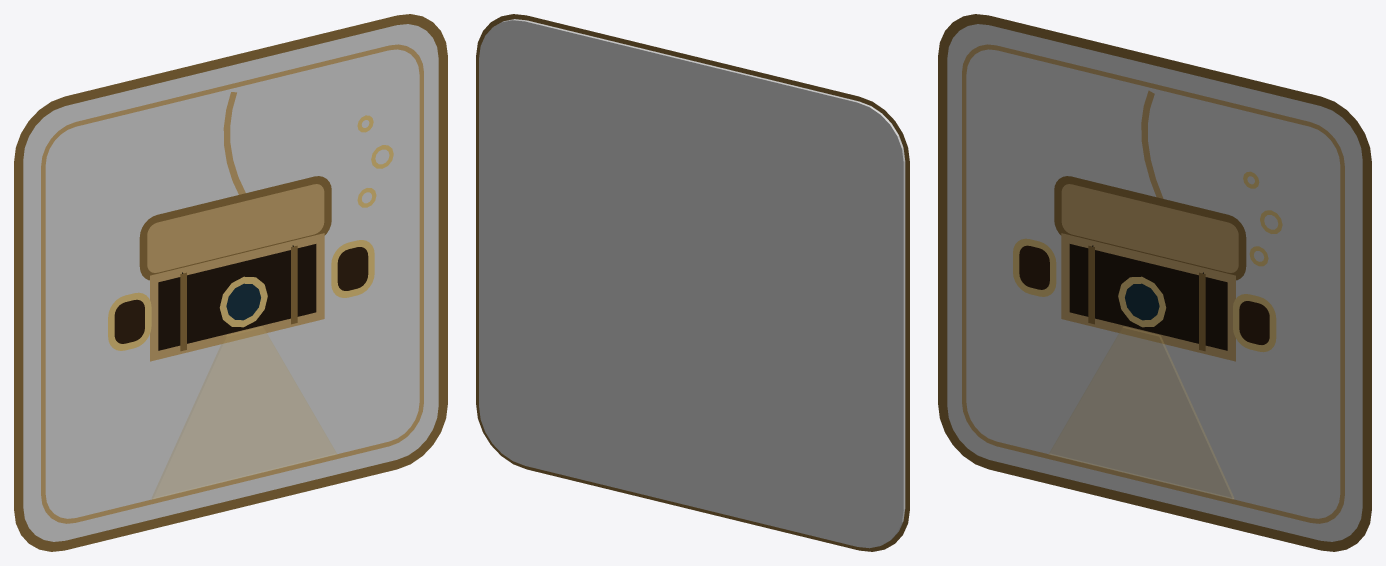
File: obj-rov.glb
3 renders of one model, left to right at view 1: azimuth 30°, elevation 25°; view 2: azimuth 150°, elevation 25°; view 3: azimuth 330°, elevation 25°, orthographic.
Visible parts, largest first — view 1: obj-rov; view 2: obj-rov; view 3: obj-rov.
Boxes of the visible parts, <box> form: obj-rov: <box>14,14,447,551</box>; obj-rov: <box>476,14,909,551</box>; obj-rov: <box>938,14,1371,551</box>.
Size of the model in its own units: 0.3917 by 0.3917 by 0.0326.
